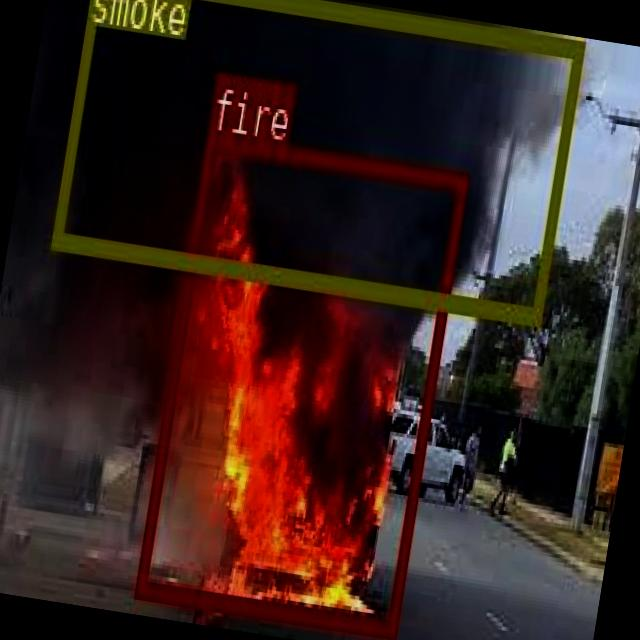fire: (134, 132, 468, 636)
smoke: (50, 0, 583, 323)
